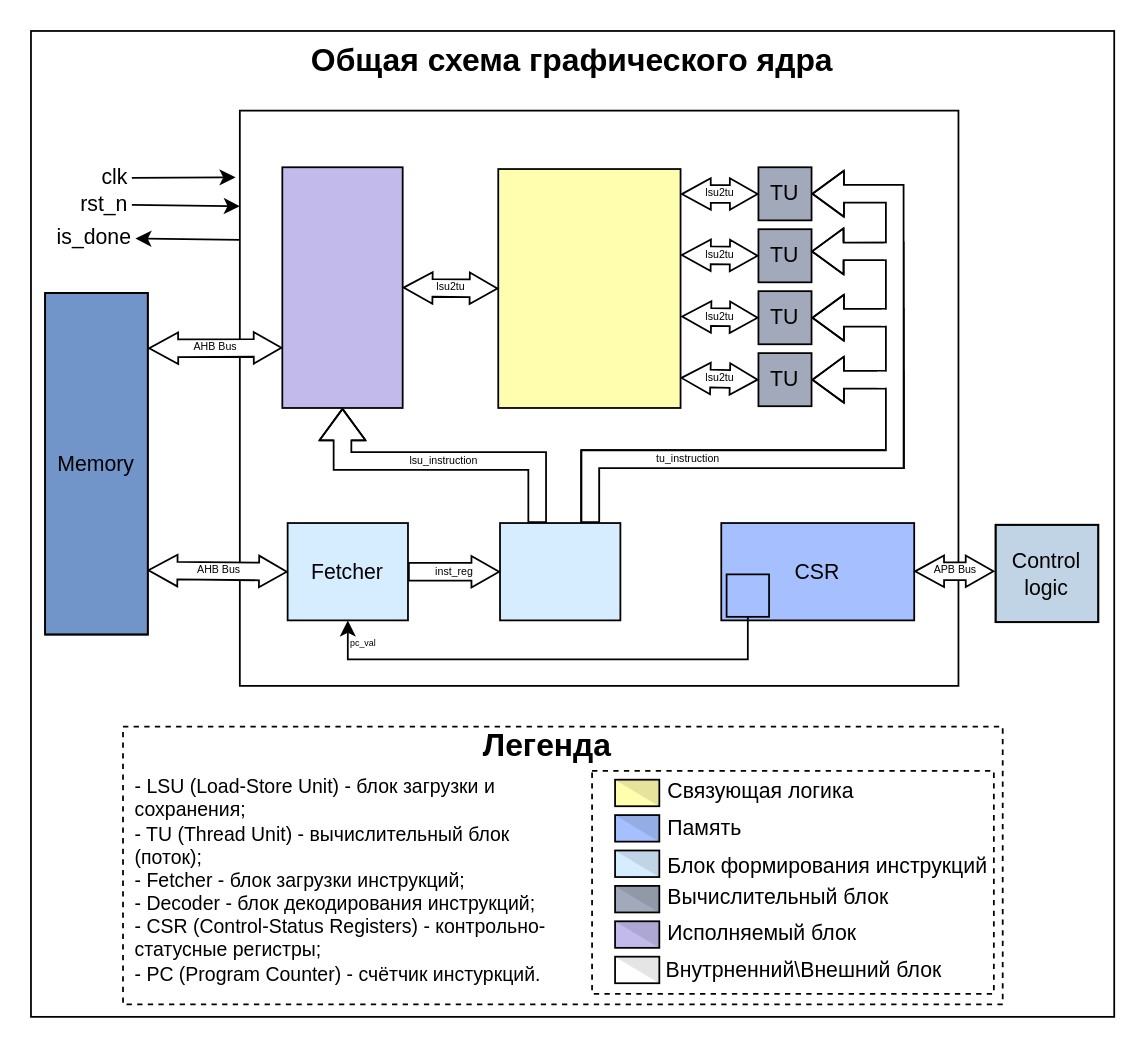
This 1145x1048 diagram has some shape labels left out. The box of each missing label's shape, as (x1, y1, x2, y2) in pixels:
Decoder: (498, 521, 620, 620)
Interconnect: (496, 167, 681, 408)
LSU: (281, 165, 403, 408)
PC: (725, 573, 769, 617)
Графическое ядро: (238, 109, 958, 686)
